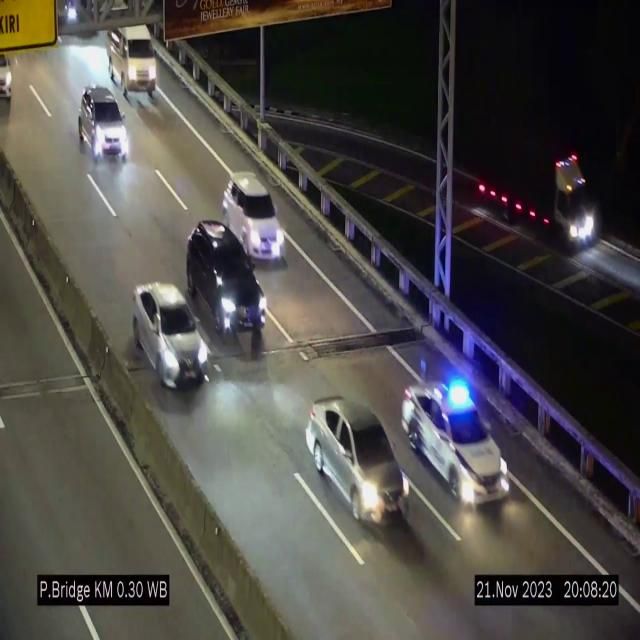Car: (304, 388, 410, 542), (402, 359, 509, 505), (187, 221, 266, 354), (133, 284, 210, 386), (222, 172, 286, 261), (109, 13, 164, 108), (77, 77, 131, 169)
Truck: (474, 94, 599, 260)
